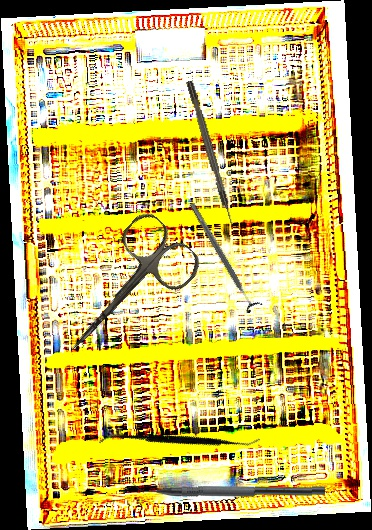Chopper: (127, 473, 326, 499)
Fixation Ring: (183, 198, 264, 315)
Hook Surgical: (186, 79, 236, 230)
Iris Scissors: (40, 207, 207, 377)
Spatula Surgical: (98, 371, 261, 511)
